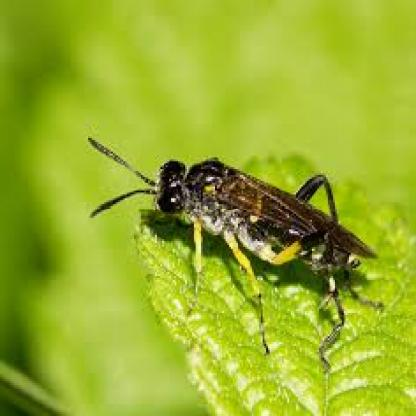sawfly: (78, 133, 372, 342)
